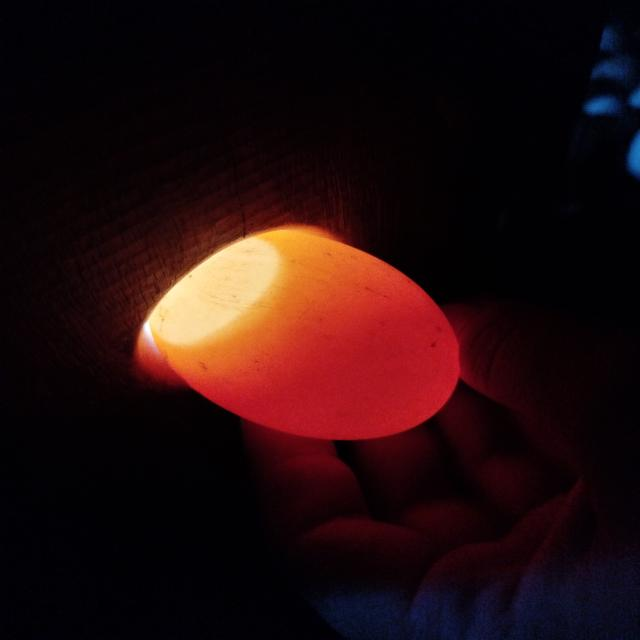Camara de Ar: (150, 238, 281, 346)
Gema Quebrada: (223, 282, 457, 438)
